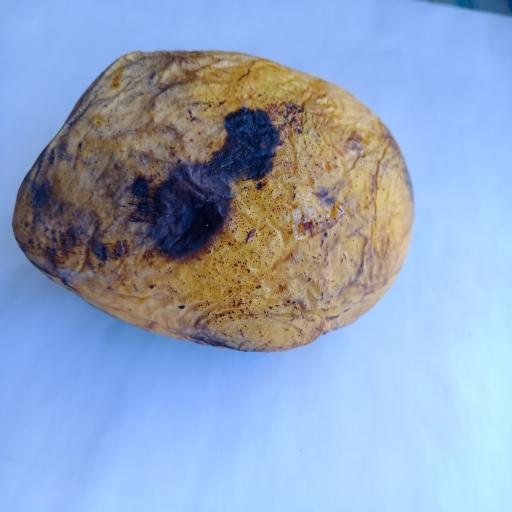mango-overripe: (0, 43, 437, 360)
